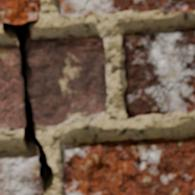brick: (63, 137, 194, 194), (123, 27, 194, 117), (58, 0, 194, 15), (0, 151, 42, 194), (0, 0, 39, 22)
broken_brick: (29, 36, 107, 126), (0, 51, 24, 129), (0, 45, 13, 48)
crack: (0, 2, 55, 192), (172, 0, 184, 2)
